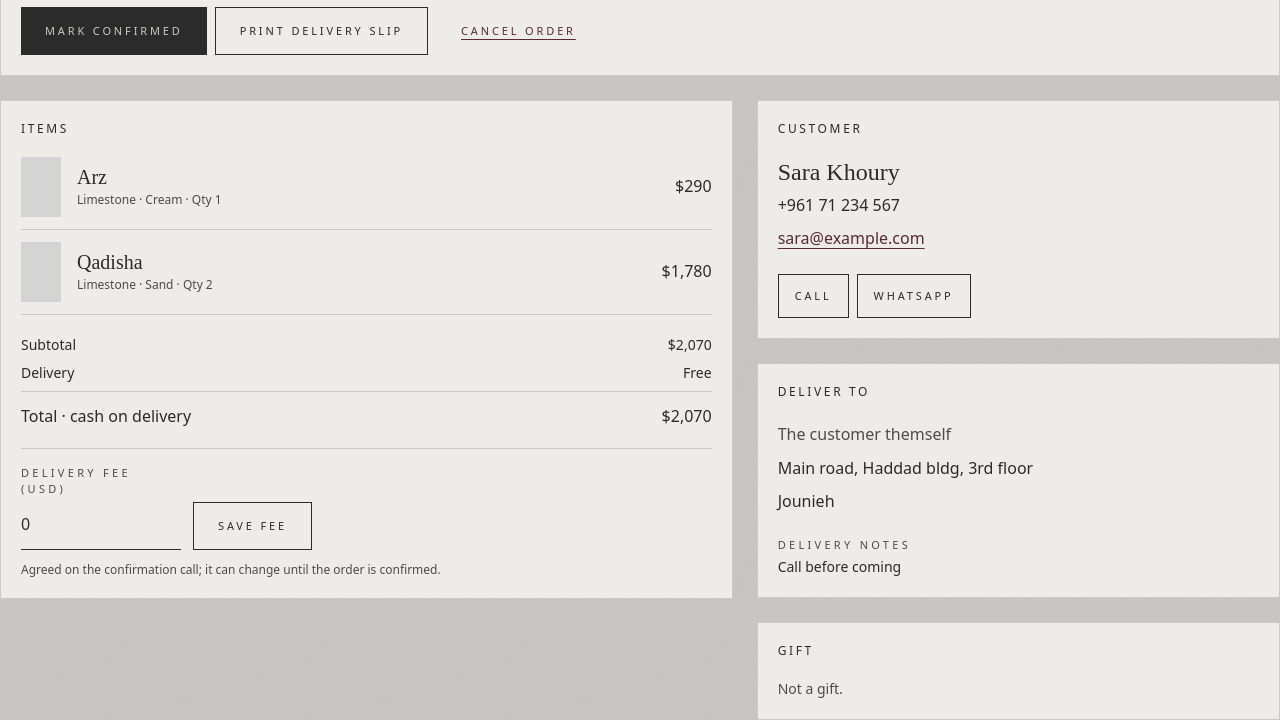
it: one order in the studio › changes the delivery fee of a pending order, cents included, and shows the new totals
(page scrolled)
Replace the text in the field labelled "Delivery fee (USD)" with "15.50": (101, 528) [21,506,181,550]
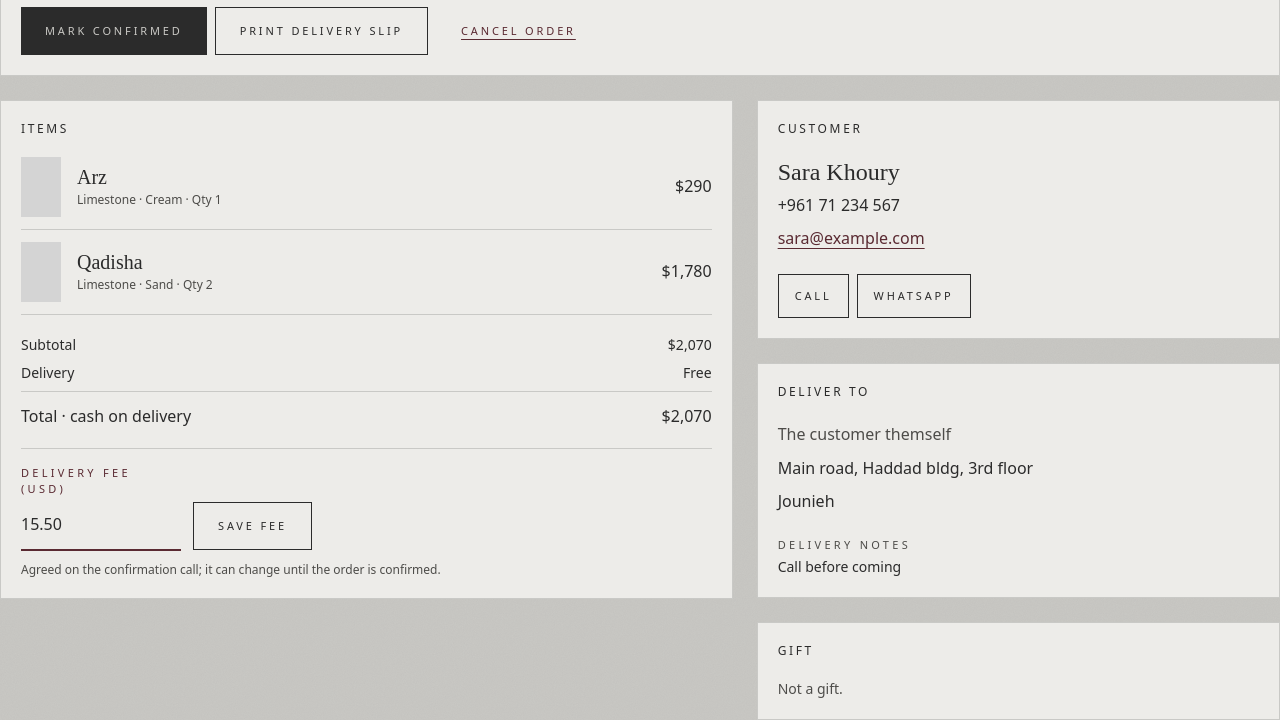
Click the button "Save fee": click(252, 526) [193,502,312,550]
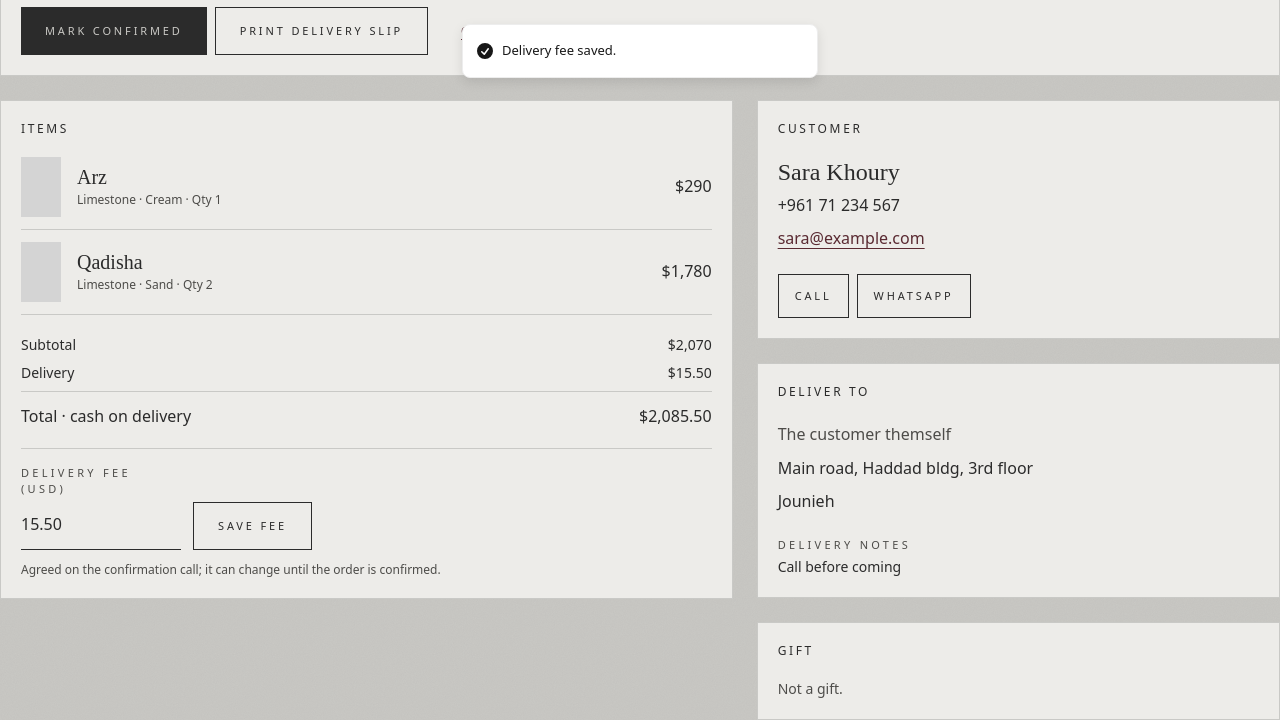
Now the text "$2,085.50" is shown, box [639,404,712,428]
